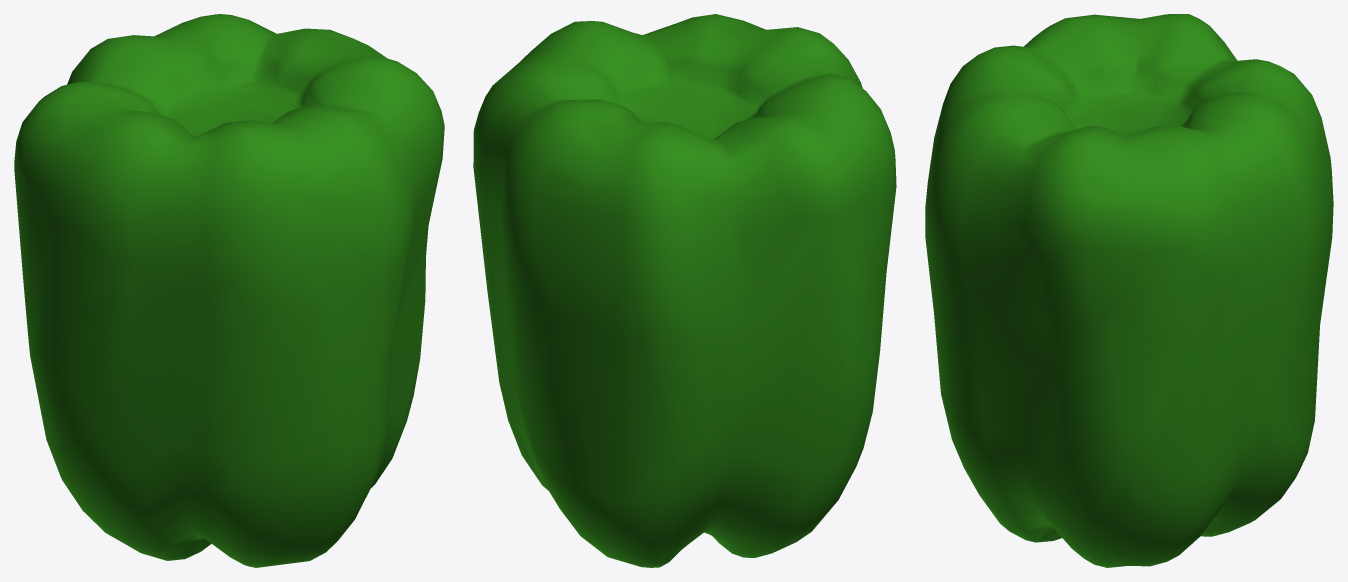
Rendered from pepper4.vtk.obj.
3 views of the same model, side by side, from view 1: azimuth 30°, elevation 25°; view 2: azimuth 150°, elevation 25°; view 3: azimuth 270°, elevation 25° (orthographic).
Visible parts, largest first — view 1: pepper.1; view 2: pepper.1; view 3: pepper.1.
Part boxes in pixels (bbox=[...]): pepper.1: bbox=[14, 14, 444, 567]; pepper.1: bbox=[473, 14, 896, 567]; pepper.1: bbox=[925, 14, 1333, 567].
Size of the model in its own units: 9.52 by 11.29 by 9.08.
Materials: 1 (1 with a texture image).
